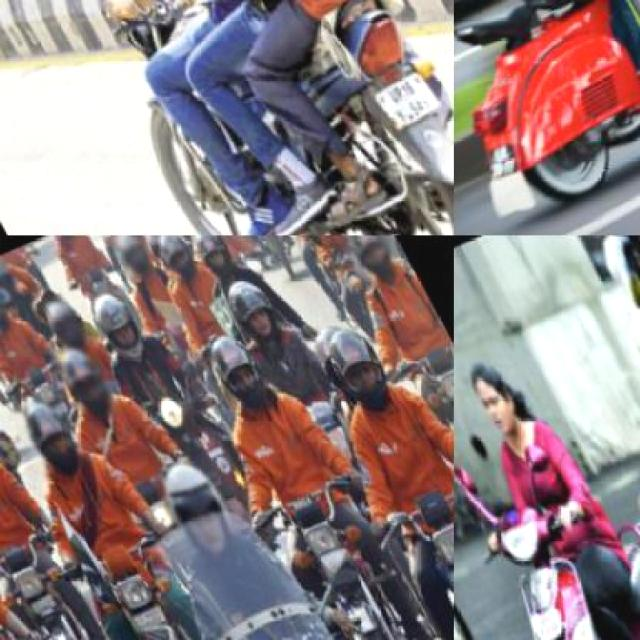With Helmet: (140, 445, 248, 570), (183, 310, 280, 424), (311, 311, 403, 420), (74, 274, 161, 374), (3, 387, 89, 484), (46, 334, 122, 426), (220, 270, 288, 348), (326, 235, 411, 294), (37, 289, 91, 353), (182, 236, 248, 286), (148, 235, 203, 283), (106, 236, 160, 284), (0, 250, 28, 308), (0, 278, 17, 334)
Without Helmet: (454, 337, 538, 446), (606, 284, 639, 408)
